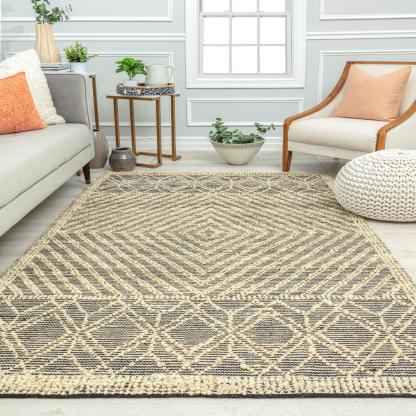Carpet: (1, 170, 415, 397)
